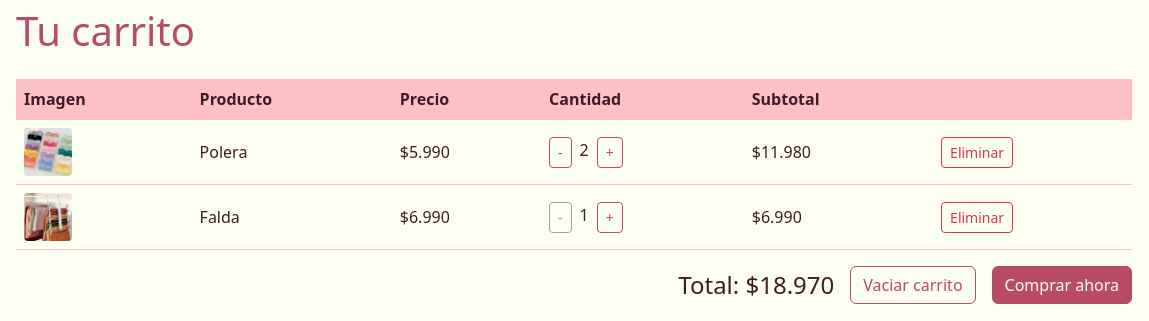
Test: Integración (rutas de Next + TiendaContext) › carrito: quitar, eliminar y vaciar actualizan el estado
What coordinates should you click on to do the following:
click the button named "Quitar una unidad de Polera"
I would click on:
 (560, 152)
Its box is [549,136,572,168].
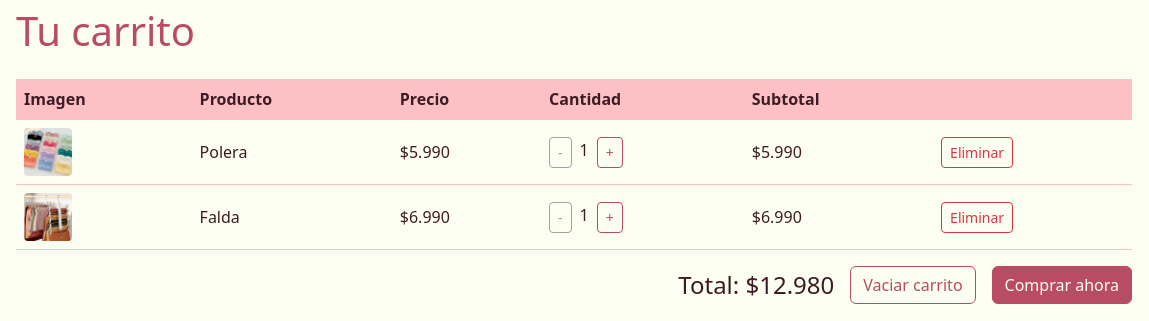
What coordinates should you click on to do the following:
click the button "Eliminar" in the row of "Falda"
I would click on:
 (977, 217)
Its box is [941,202,1013,232].
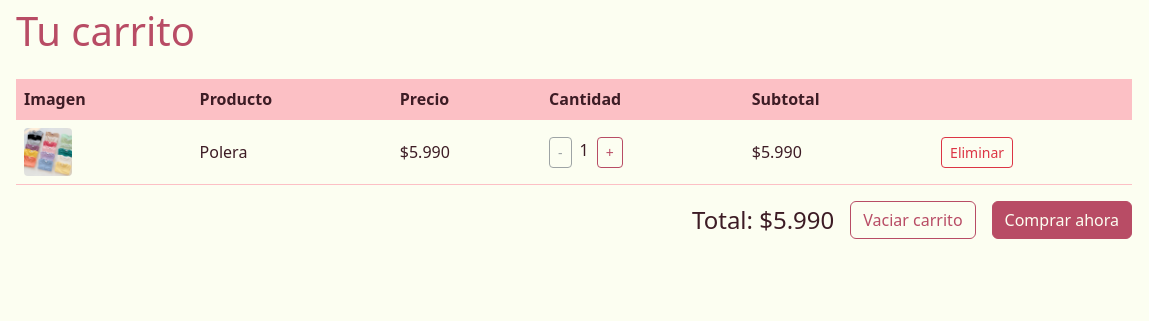
What coordinates should you click on to do the following:
click the button "Vaciar carrito"
I would click on:
 (913, 220)
Its box is [850,201,976,239].
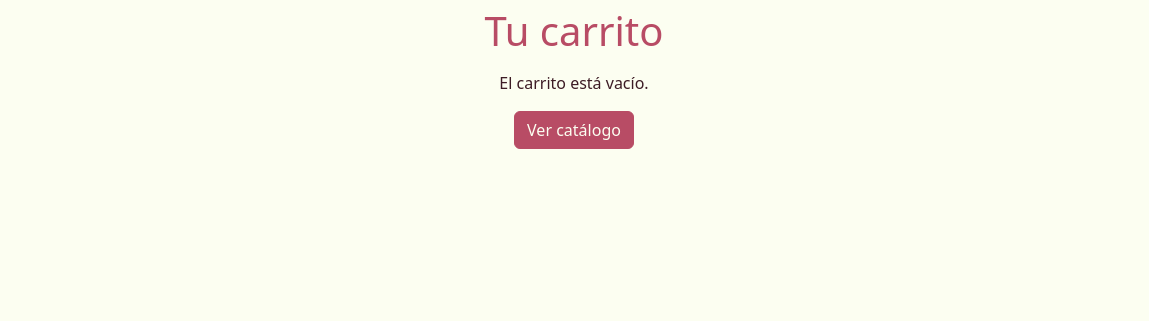
Now the text "El carrito está vacío." is shown, box [499,72,649,94]
